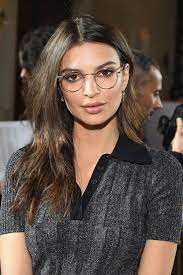g.y: (61, 74, 84, 97)
